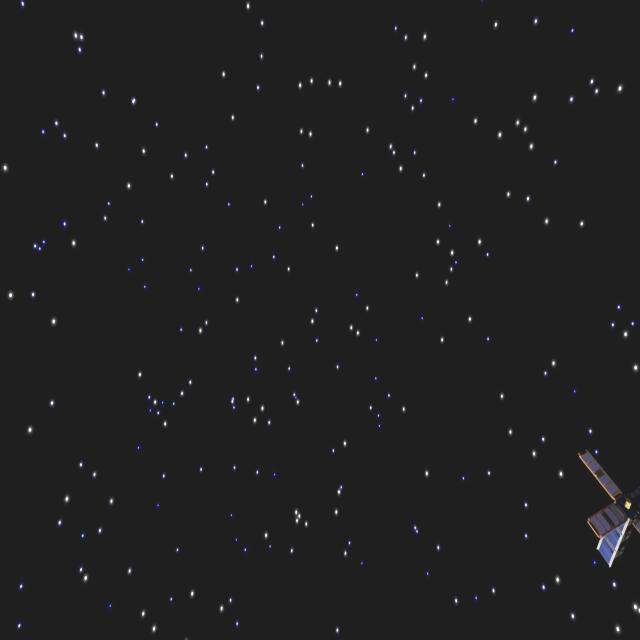medium_debris: (581, 438, 640, 572)
